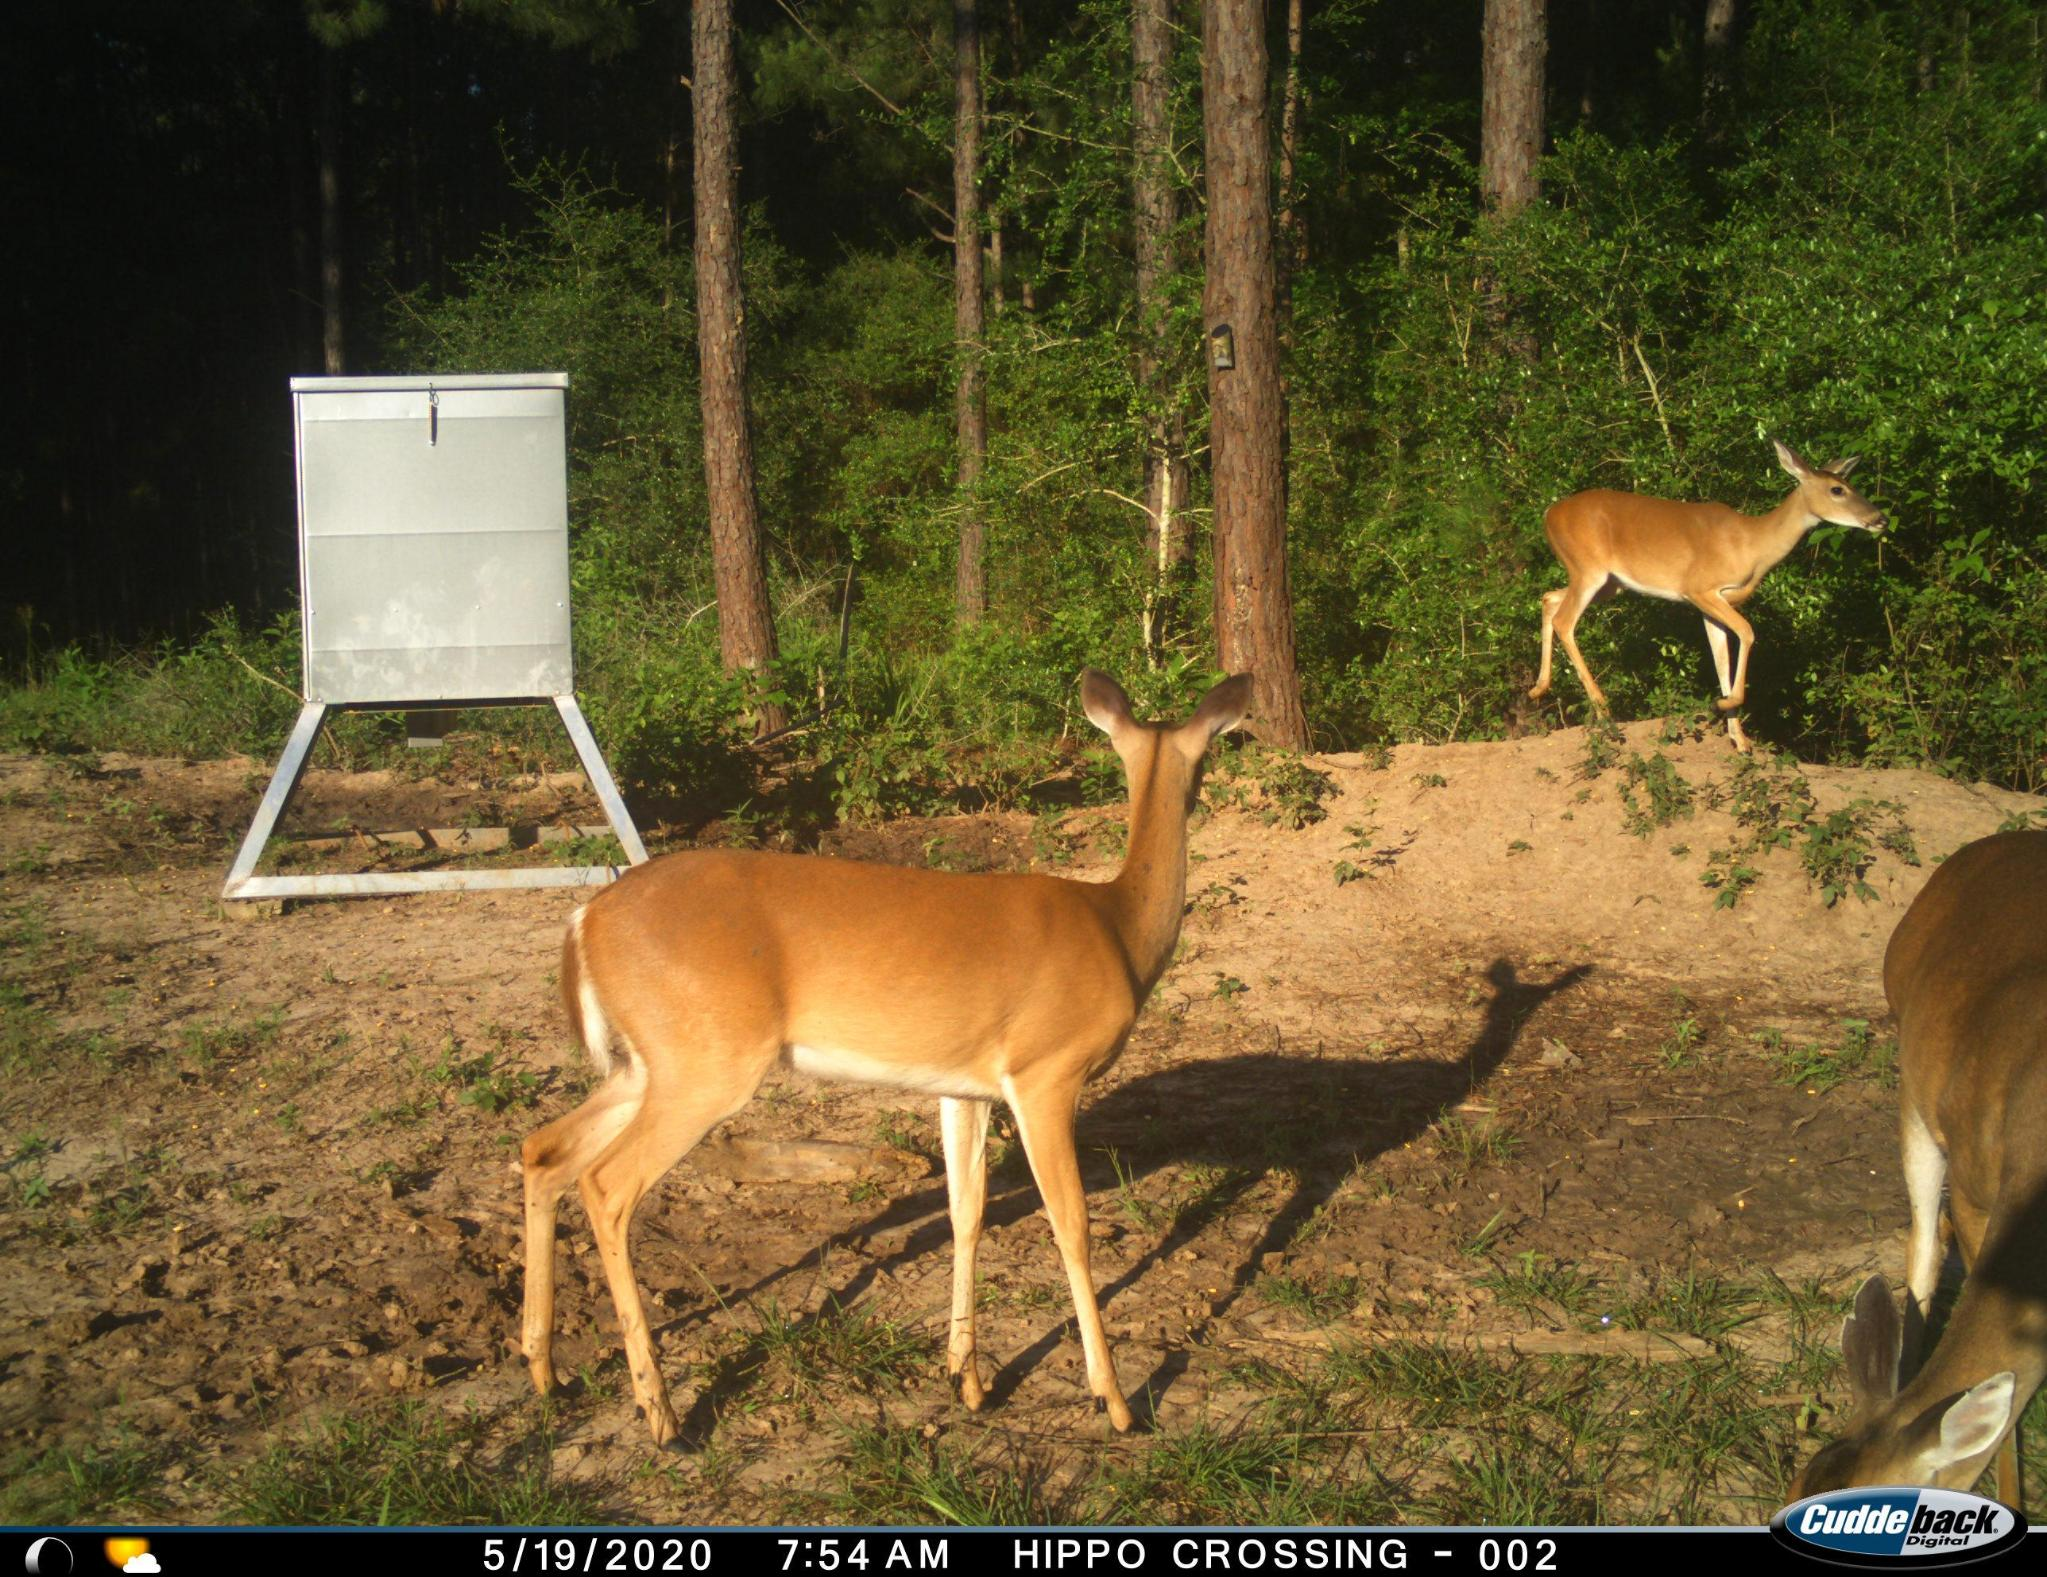Deer: (508, 659, 1272, 1441), (1765, 813, 2044, 1488), (1524, 437, 1891, 747)
